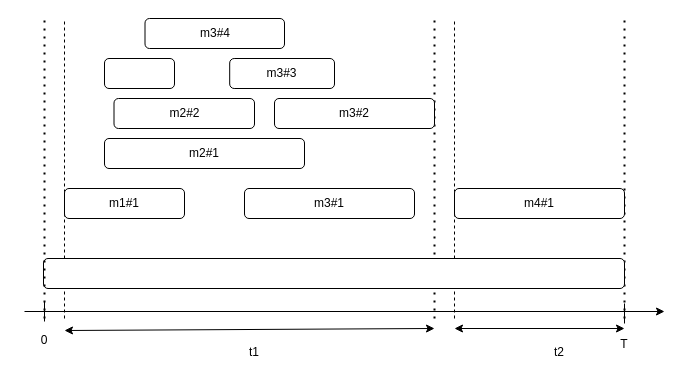
Some shapes in this 690 by 384 pixel diagram are drawn without their labels. Each missing label, with the centre of its shape:
"app_1 runtime" goes at point 333,273.
"m2#3" goes at point 139,73.
